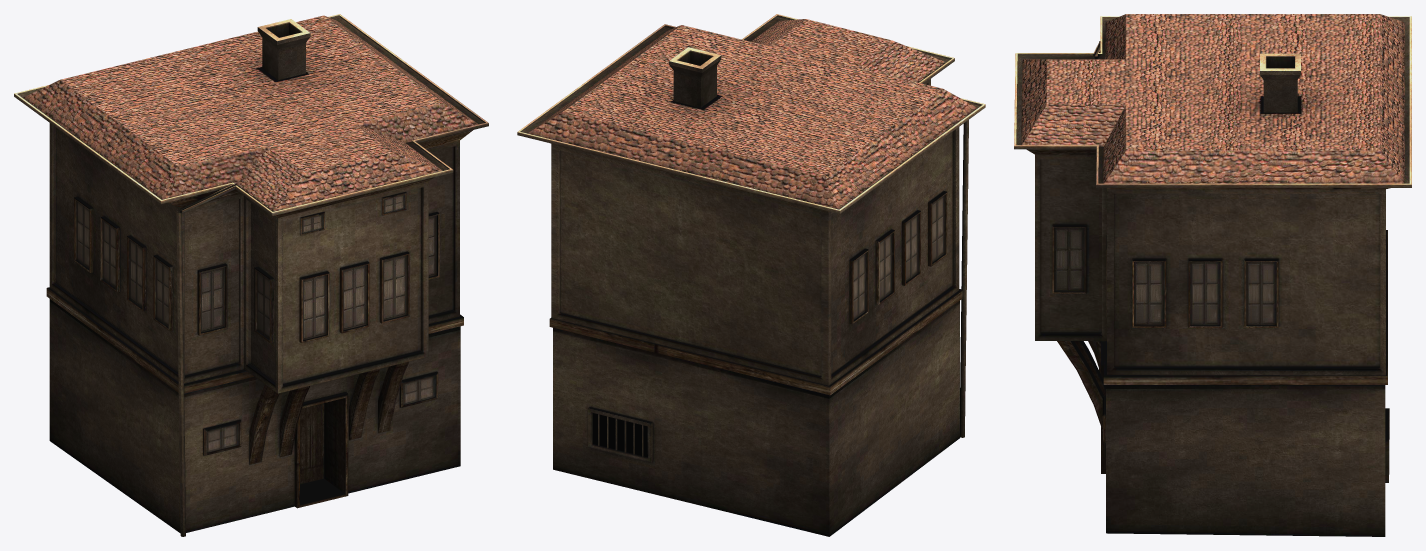
The model's file is City_House_2_BI.dae.
3 views of the same model, side by side, from view 1: azimuth 30°, elevation 25°; view 2: azimuth 150°, elevation 25°; view 3: azimuth 270°, elevation 25° (orthographic). The views are drawn at different scales.
Visible parts, largest first — view 1: city_house_2; view 2: city_house_2; view 3: city_house_2.
Part boxes in pixels (x1,y1,x2,y2): city_house_2: [14, 14, 488, 536]; city_house_2: [517, 14, 985, 536]; city_house_2: [1014, 14, 1411, 536].
Size of the model in its own units: 4.02 by 4.01 by 4.74.
1 material, 1 textured.
